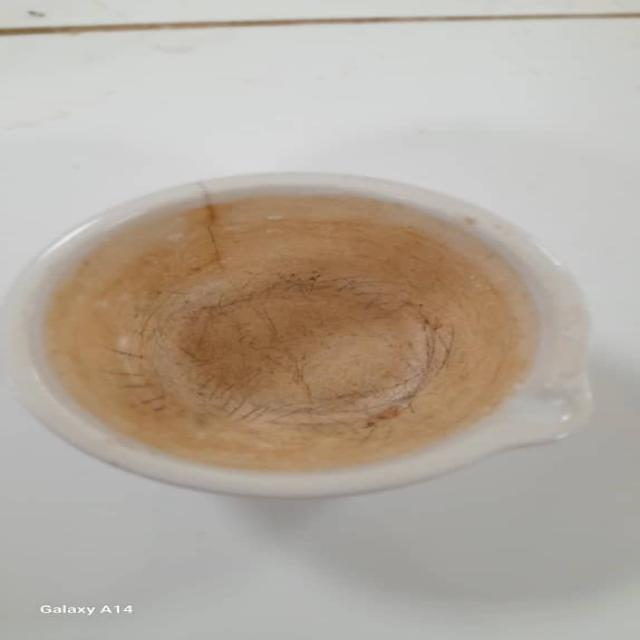Mortar and Pestle: (19, 169, 617, 502)
